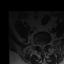CCS_normal: (41, 42, 43, 50)
LFS_severe_stenosis: (45, 41, 47, 47)
LLS_normal: (43, 43, 45, 49)
RFS_stenosis: (37, 42, 39, 47)
RLS_normal: (39, 43, 41, 49)
